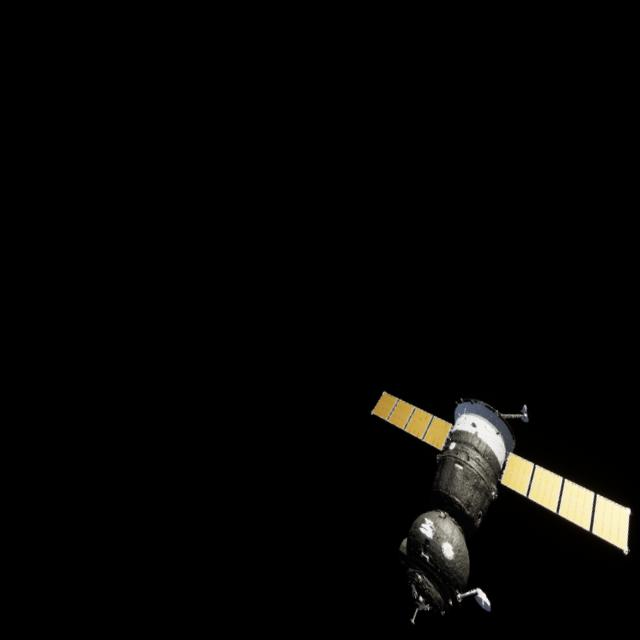Satellites revolving around earth: (358, 341, 640, 624)
